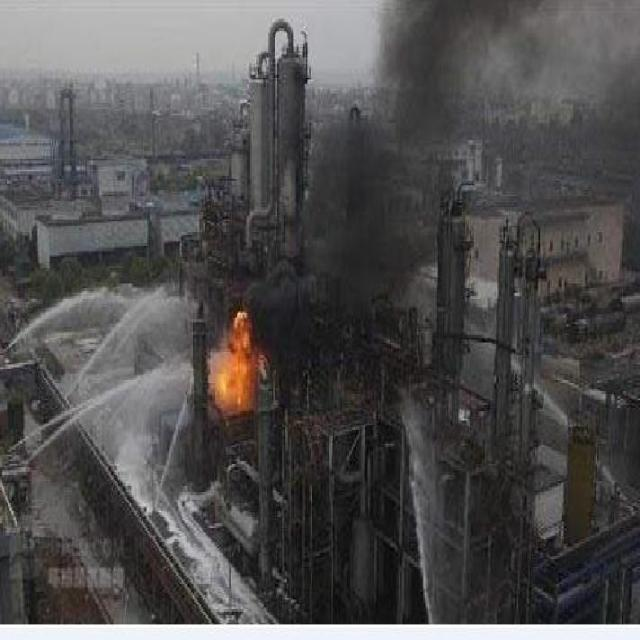Fire: (208, 312, 259, 408)
Smoke: (240, 102, 430, 388), (377, 0, 640, 115)
